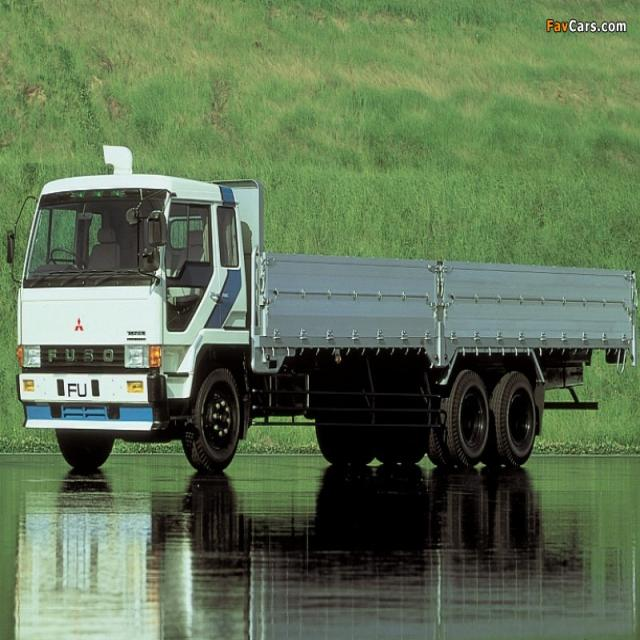truck: (9, 143, 631, 469)
